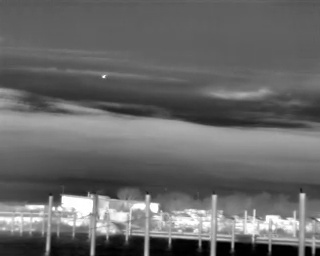BIRD: (100, 72, 108, 81)
